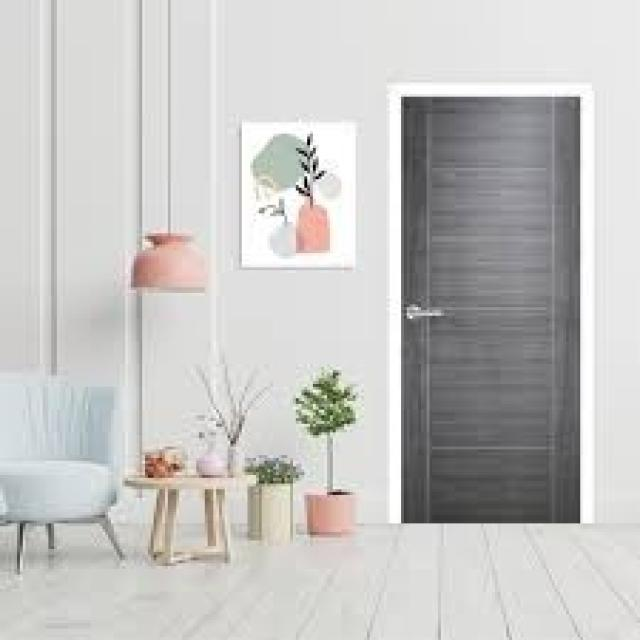door: (399, 94, 582, 523)
